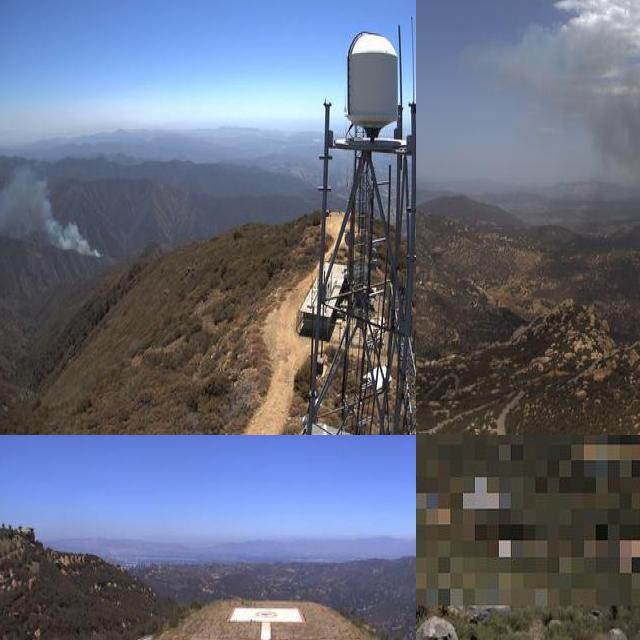smoke: (489, 15, 640, 214), (0, 163, 103, 262)
